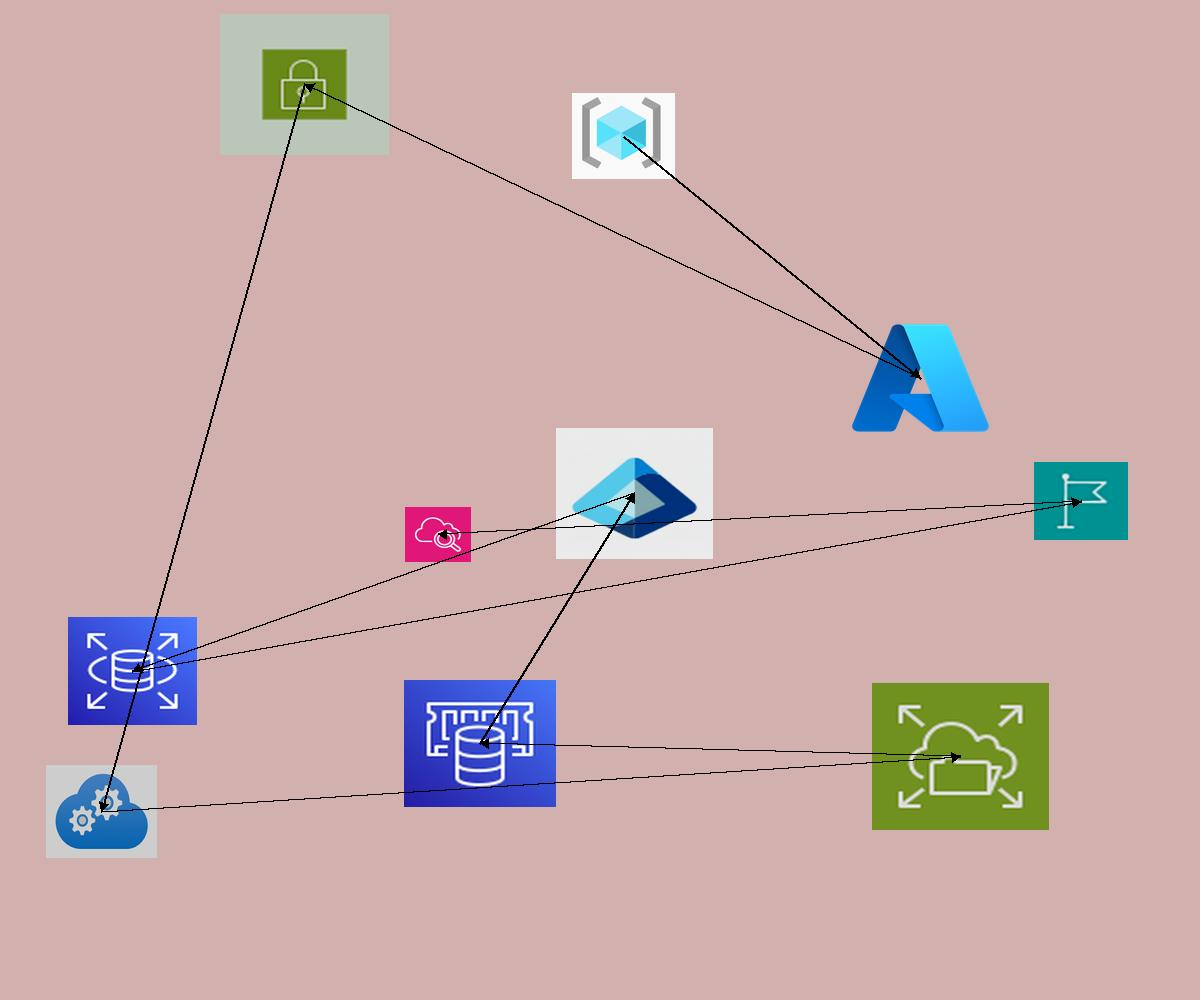AWS-CloudWatch: (405, 507, 471, 562)
AWS-EFS: (872, 683, 1049, 830)
AWS-ElastiCache: (404, 680, 556, 807)
AWS-Public-subnet: (220, 14, 389, 155)
AWS-RDS: (68, 617, 197, 725)
AWS-Region: (1034, 462, 1128, 540)
Azure_cloud_services: (46, 765, 157, 858)
Azure_microsoft_entra: (556, 428, 713, 559)
Azure_resource_group: (572, 93, 675, 179)
Azure_services: (846, 316, 995, 440)
